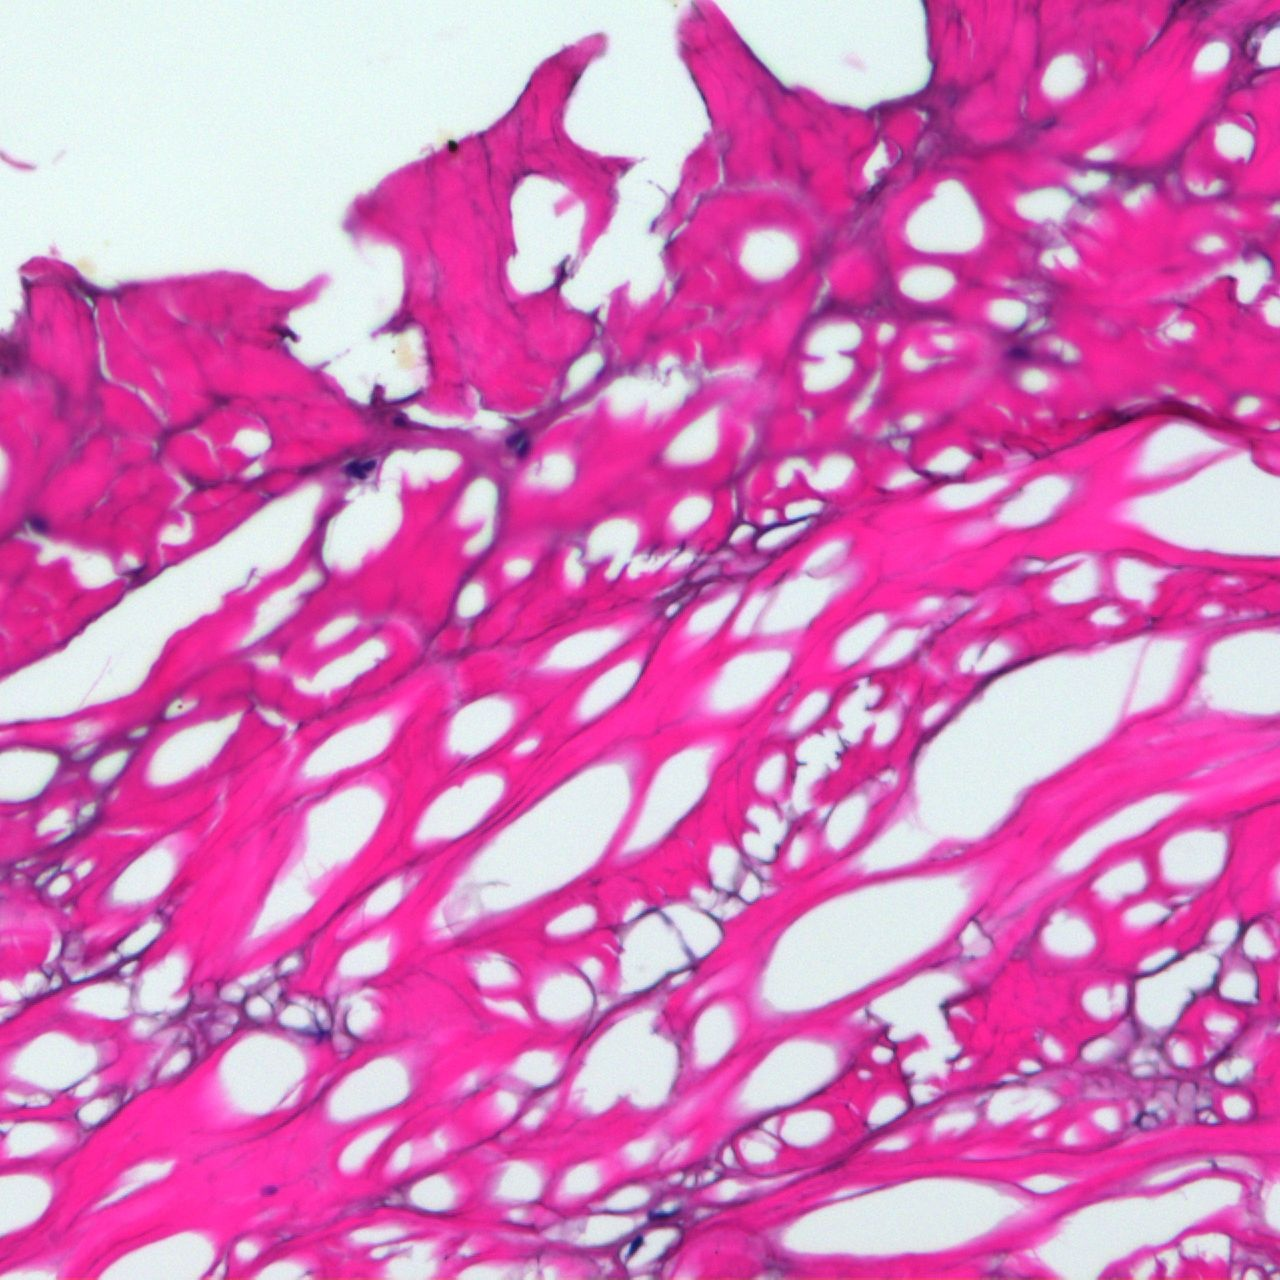dust: (72, 248, 104, 279), (399, 339, 415, 372)
nucleus-HE: (345, 459, 366, 481), (626, 1233, 645, 1257), (505, 427, 525, 448), (516, 440, 532, 459), (30, 517, 48, 535), (1006, 347, 1029, 358), (362, 457, 377, 472), (263, 1185, 277, 1194), (651, 1212, 674, 1217), (448, 141, 456, 151)
